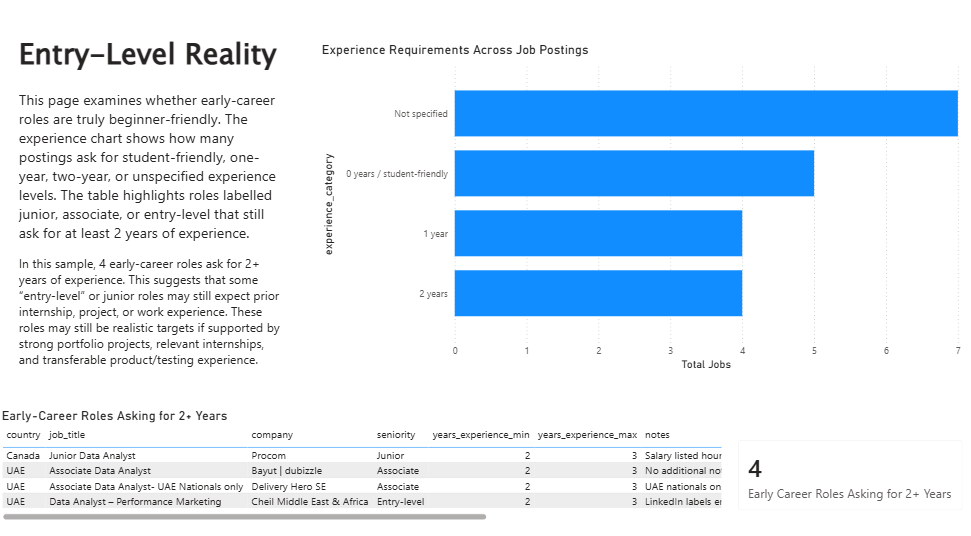

Layout of this report page (visuals, bound fields, positions):
{"tool":"powerbi","page":{"name":"Entry-Level Reality","canvas":[1280,720],"ordinal":2},"visuals":[{"type":"clusteredBarChart","title":"Experience Requirements Across Job Postings","fields":{"Category":["Jobs.experience_category"],"Y":["Jobs.Total Jobs"]},"box":[418.3,65,846.7,435],"z":0},{"type":"tableEx","title":"Early-Career Roles Asking for 2+ Years","fields":{"Values":["Jobs.country","Jobs.job_title","Jobs.company","Jobs.seniority","Jobs.years_experience_min","Jobs.years_experience_max","Jobs.notes"]},"box":[0,544.6,951.7,151.9],"z":1000},{"type":"cardVisual","fields":{"Data":["Jobs.Early Career Roles With 2+ Years"]},"box":[951.7,569.5,328.6,127],"z":2000},{"type":"textbox","box":[22.9,48.6,358.6,471.4],"z":2001}]}

Visuals, with their boxes in screenshot pixels (x1, y1, x2, y2), scaled from the page's 1280x720 canvas onto the 971x536 screenshot:
"Experience Requirements Across Job Postings" clusteredBarChart: [317, 48, 960, 372]
"Early-Career Roles Asking for 2+ Years" tableEx: [0, 405, 722, 519]
cardVisual - Jobs.Early Career Roles With 2+ Years: [722, 424, 970, 519]
textbox: [17, 36, 289, 387]
